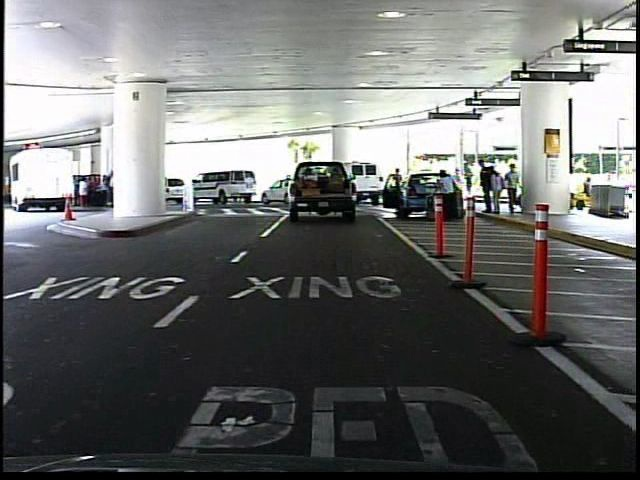person: (436, 163, 459, 222), (503, 159, 524, 217), (389, 165, 406, 206)
